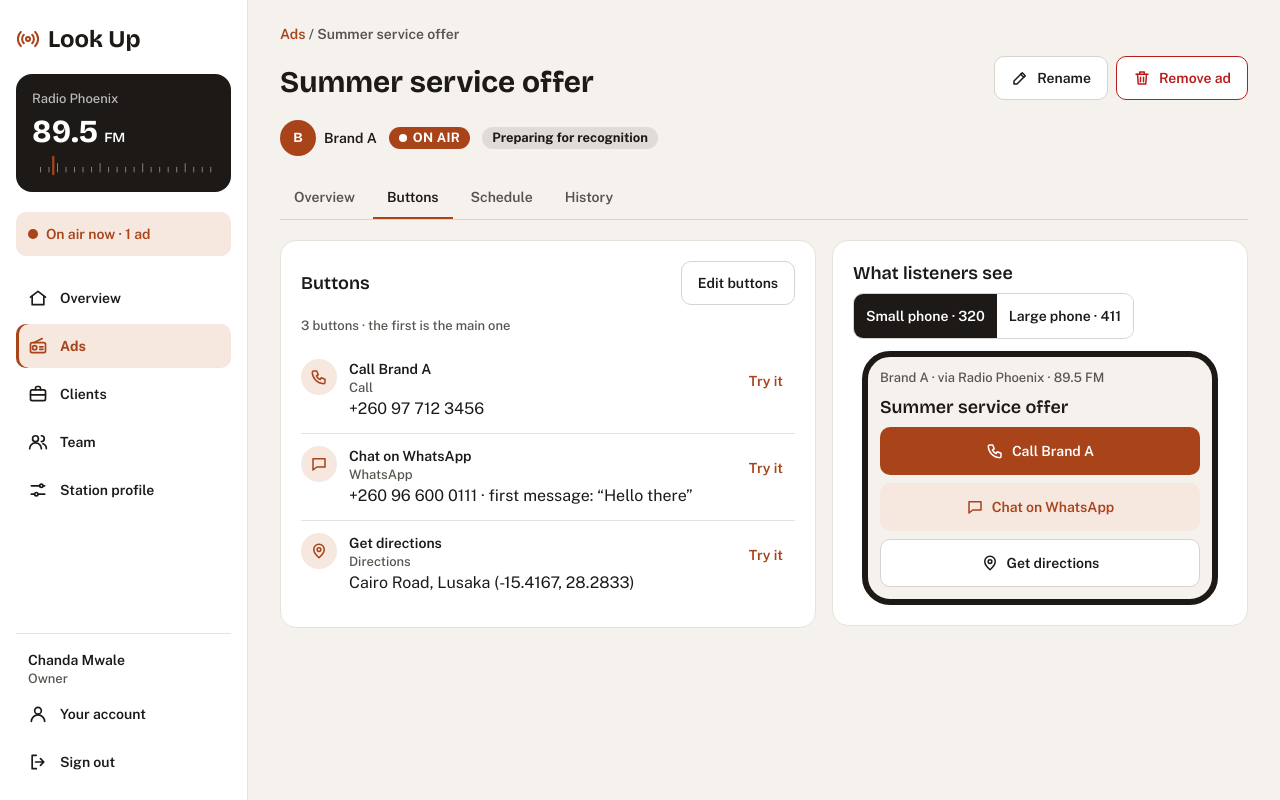
Test case: Ad page › buttons tab › previews at a small and a large phone, with the small one first
Expected: the element named "320 pixel wide" is shown, [862, 351, 1218, 605]
Click the button "Large phone · 411": (1065,316) [997, 294, 1133, 338]
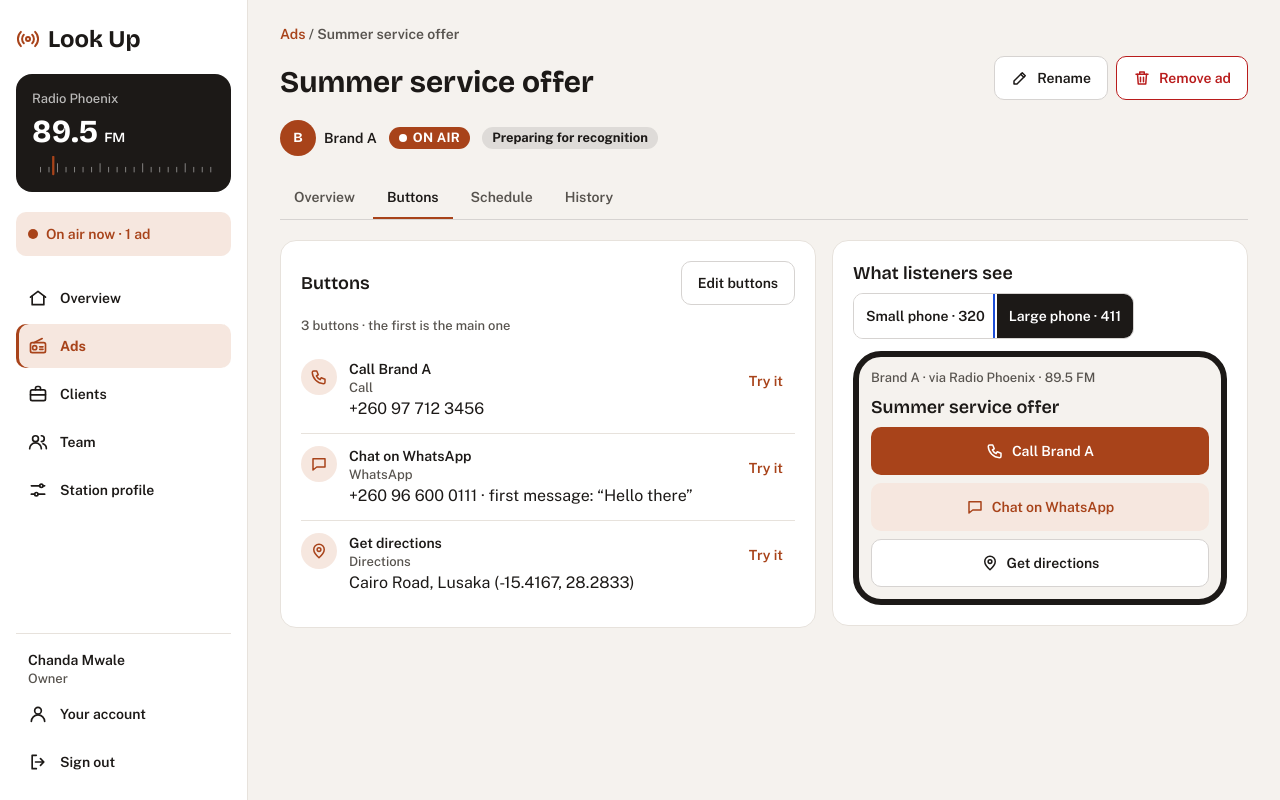
Expected: the element named "411 pixel wide" is shown, [853, 351, 1227, 605]
